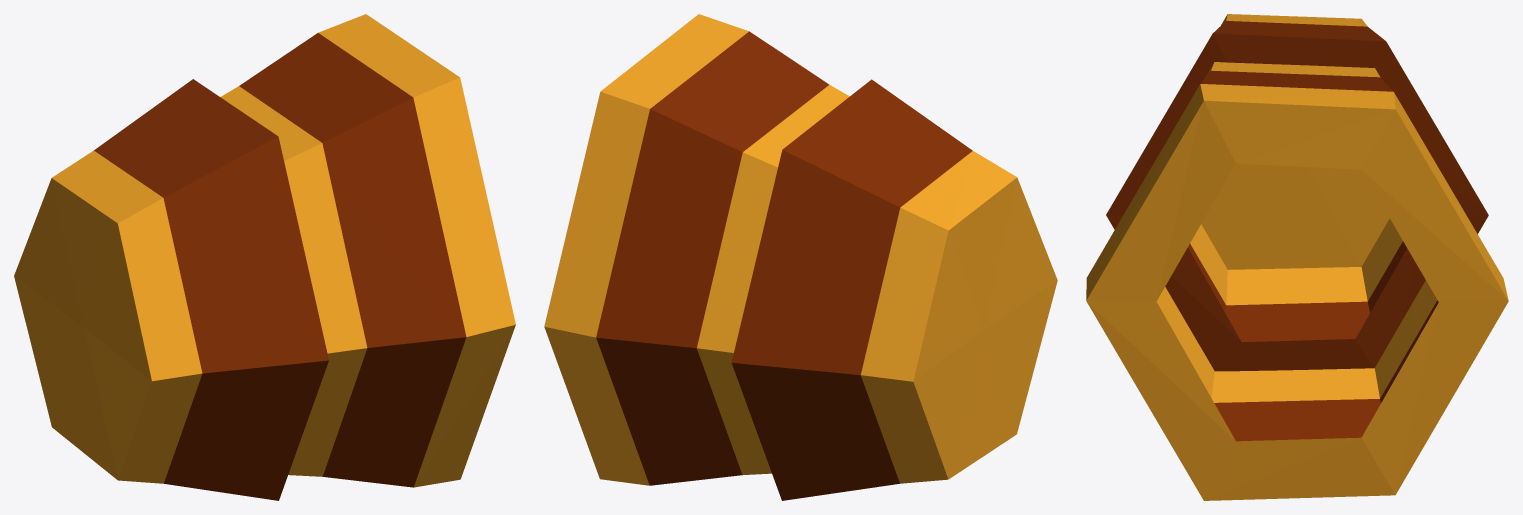
The model's file is Bracer 03.FBX.
3 renders of one model, left to right at view 1: azimuth 30°, elevation 25°; view 2: azimuth 150°, elevation 25°; view 3: azimuth 270°, elevation 25°, orthographic.
Visible parts, largest first — view 1: Bracer 03; view 2: Bracer 03; view 3: Bracer 03.
Part boxes in pixels (<box>): Bracer 03: <box>14,14,515,500</box>; Bracer 03: <box>544,14,1057,500</box>; Bracer 03: <box>1086,14,1508,500</box>.
Size of the model in its own units: 18.57 by 20.16 by 21.06.
